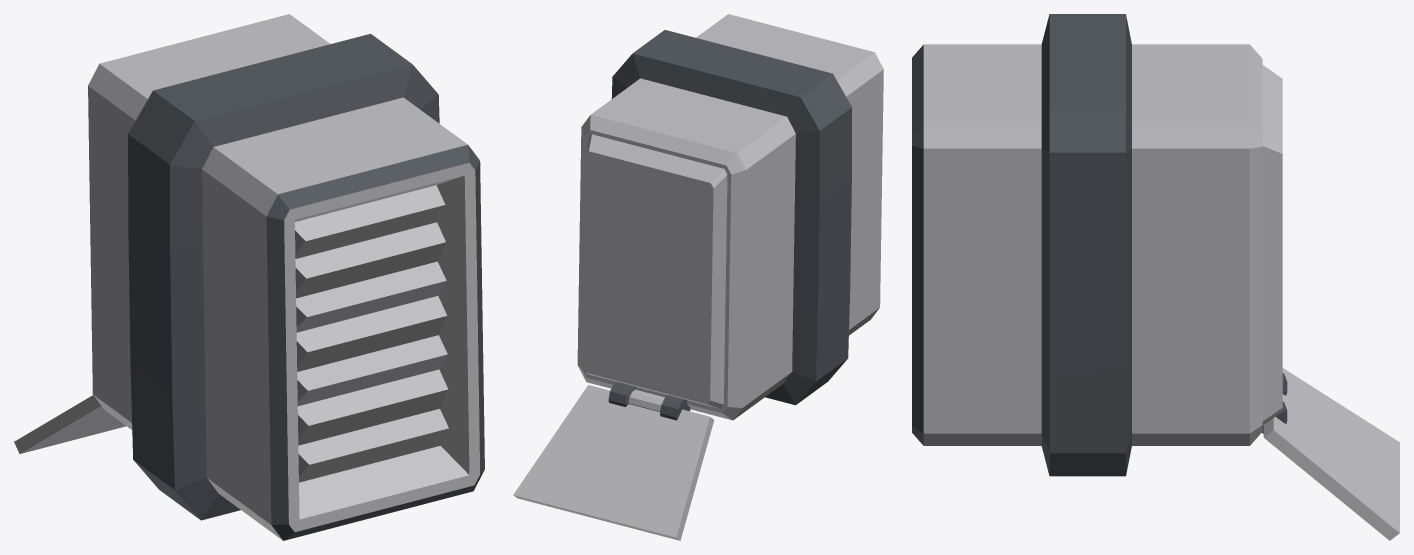
The model's file is Dropship_02_Glider.fbx.
3 renders of one model, left to right at view 1: azimuth 30°, elevation 25°; view 2: azimuth 150°, elevation 25°; view 3: azimuth 270°, elevation 25°, orthographic. The views are drawn at different scales.
Visible parts, largest first — view 1: Dropship_02_Glider; view 2: Dropship_02_Glider; view 3: Dropship_02_Glider.
Boxes of the visible parts, <box> form: Dropship_02_Glider: <box>14,14,484,540</box>; Dropship_02_Glider: <box>513,14,883,540</box>; Dropship_02_Glider: <box>912,14,1399,540</box>.
Bounding box in the file's own units: 165 × 273 × 278.
1 material, 1 textured.
